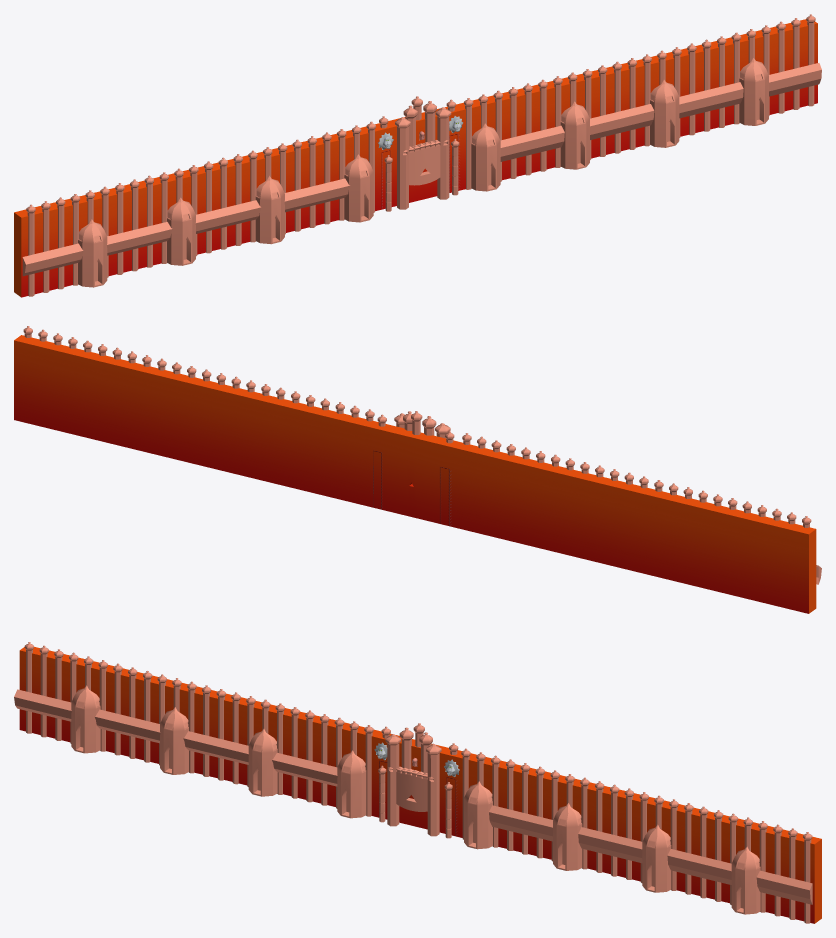
Rendered from Lanka Gate.fbx.
3 renders of one model, top to bottom at view 1: azimuth 30°, elevation 25°; view 2: azimuth 150°, elevation 25°; view 3: azimuth 330°, elevation 25°, orthographic.
Visible parts, largest first — view 1: Lanka_Gate; view 2: Lanka_Gate; view 3: Lanka_Gate.
Boxes of the visible parts, x1,y1,x2,y2 form: Lanka_Gate: (14, 14, 821, 297); Lanka_Gate: (14, 326, 821, 613); Lanka_Gate: (14, 642, 821, 923).
Size of the model in its own units: 10437 by 1290 by 360.
Materials: 5 (3 with a texture image).
